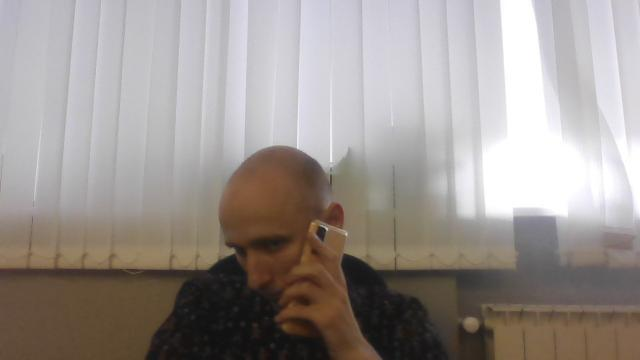PhoneUse: (278, 219, 352, 338)
